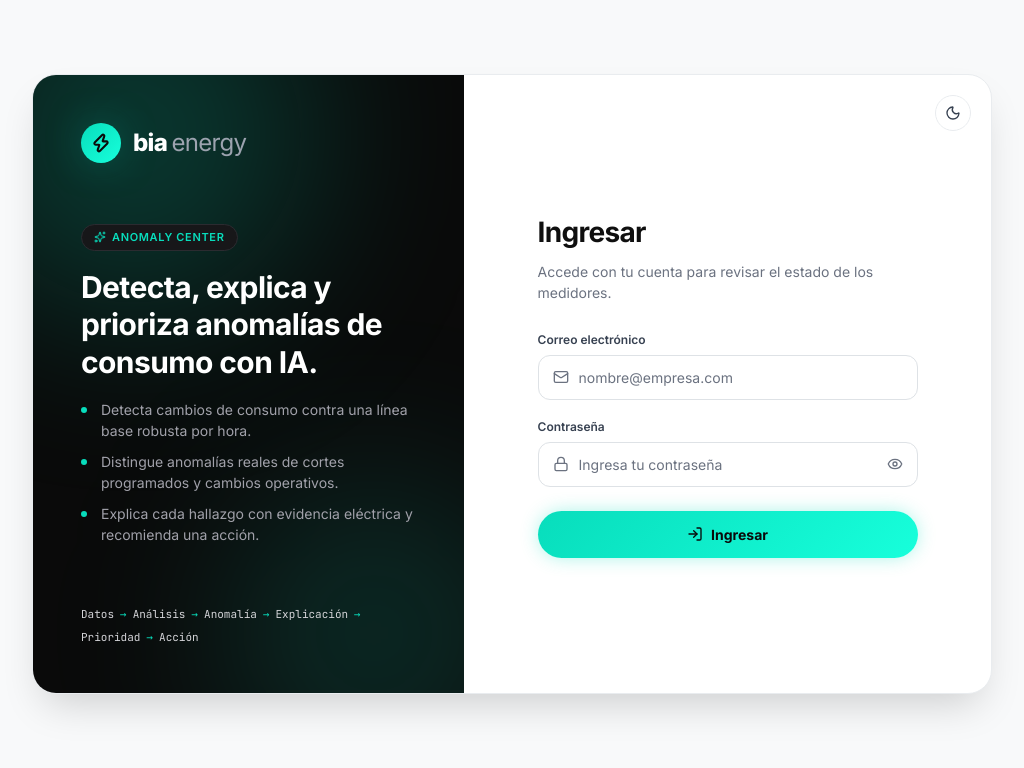
Test: LoginForm › shows the Spanish error and stays on the login when the credentials are wrong
Type "admin@bia.app" into the field labelled "Correo electrónico" at point(728, 377), box [538,356,916,398]
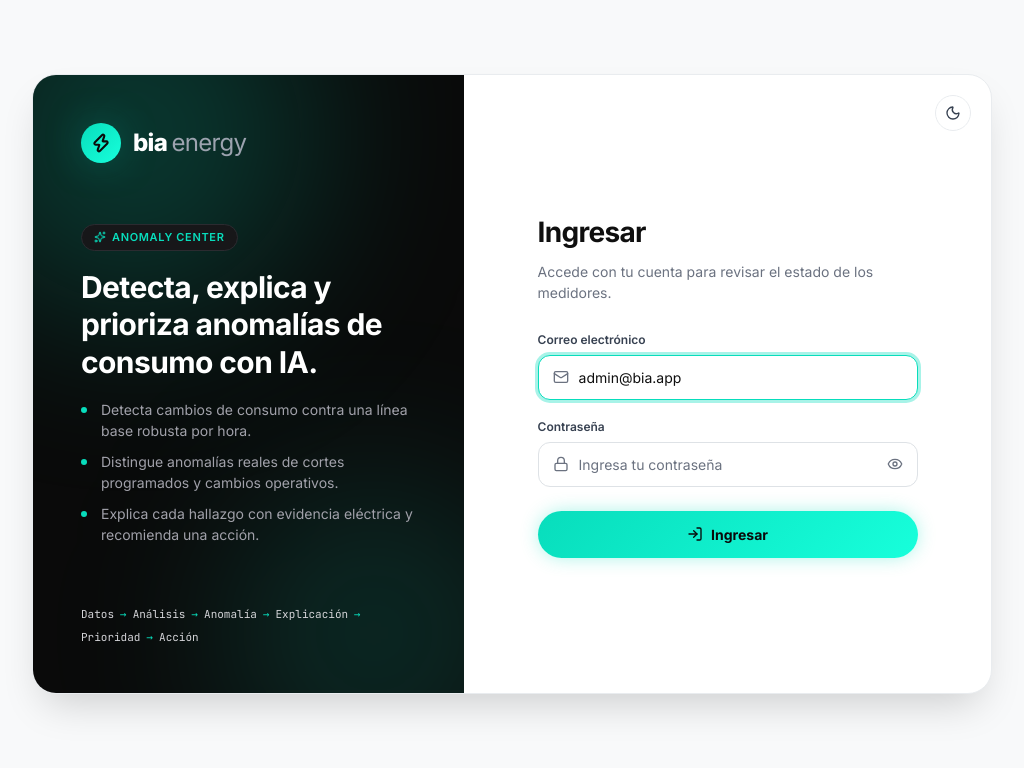
Type "wrong-password" into the password field labelled "Contraseña" at point(728, 464), box [538,442,916,486]
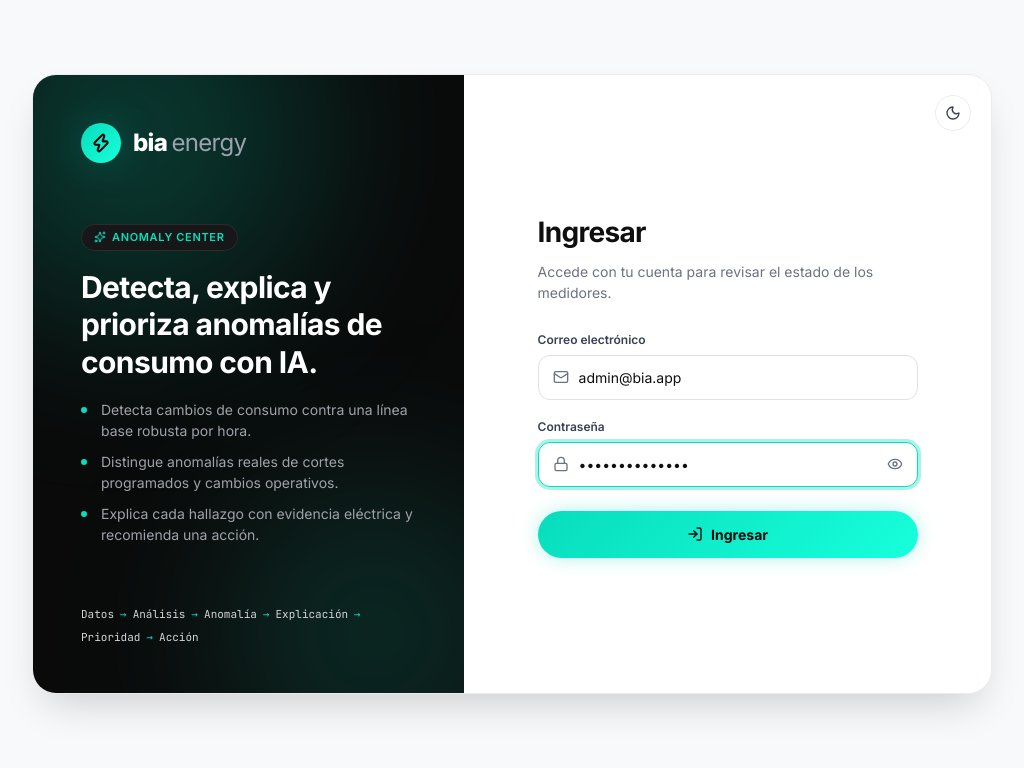
Click the button "Ingresar" at point(728, 534), box [538,510,918,558]
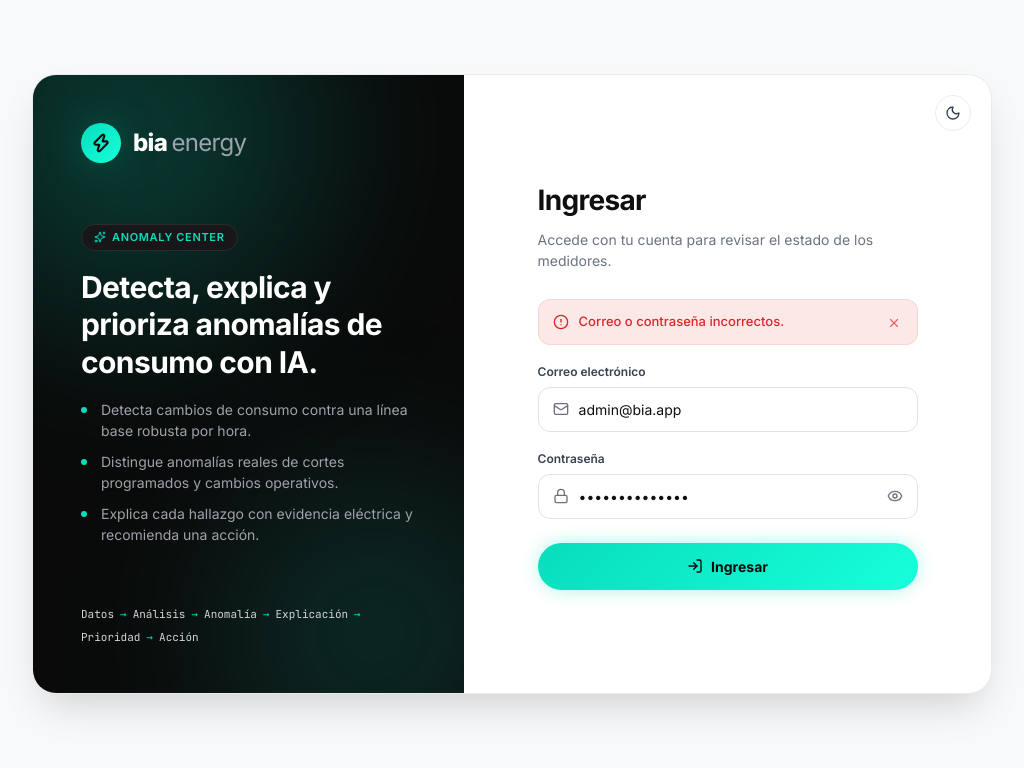
expect the button "Ingresar" is enabled: met, box [538,542,918,590]
expect the message reads "Correo o contraseña incorrectos.": met, box [578,312,784,328]
